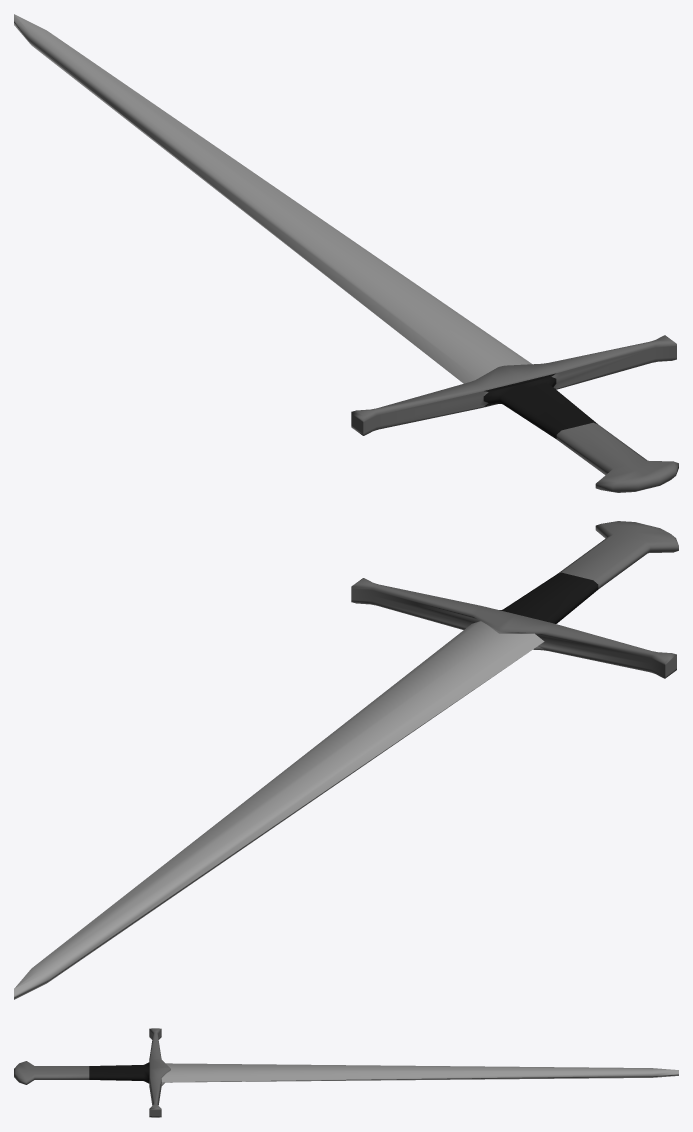
The model's file is sword.fbx.
3 renders of one model, top to bottom at view 1: azimuth 30°, elevation 25°; view 2: azimuth 150°, elevation 25°; view 3: azimuth 270°, elevation 25°, orthographic. The views are drawn at different scales.
Parts seen in each view (by area): view 1: Plane; view 2: Plane; view 3: Plane.
Boxes of the visible parts, x1=… form: Plane: x1=14, y1=14, x2=678, y2=492; Plane: x1=14, y1=521, x2=678, y2=999; Plane: x1=14, y1=1028, x2=678, y2=1117.
Bounding box in the file's own units: 1.74 × 0.1048 × 6.11.
